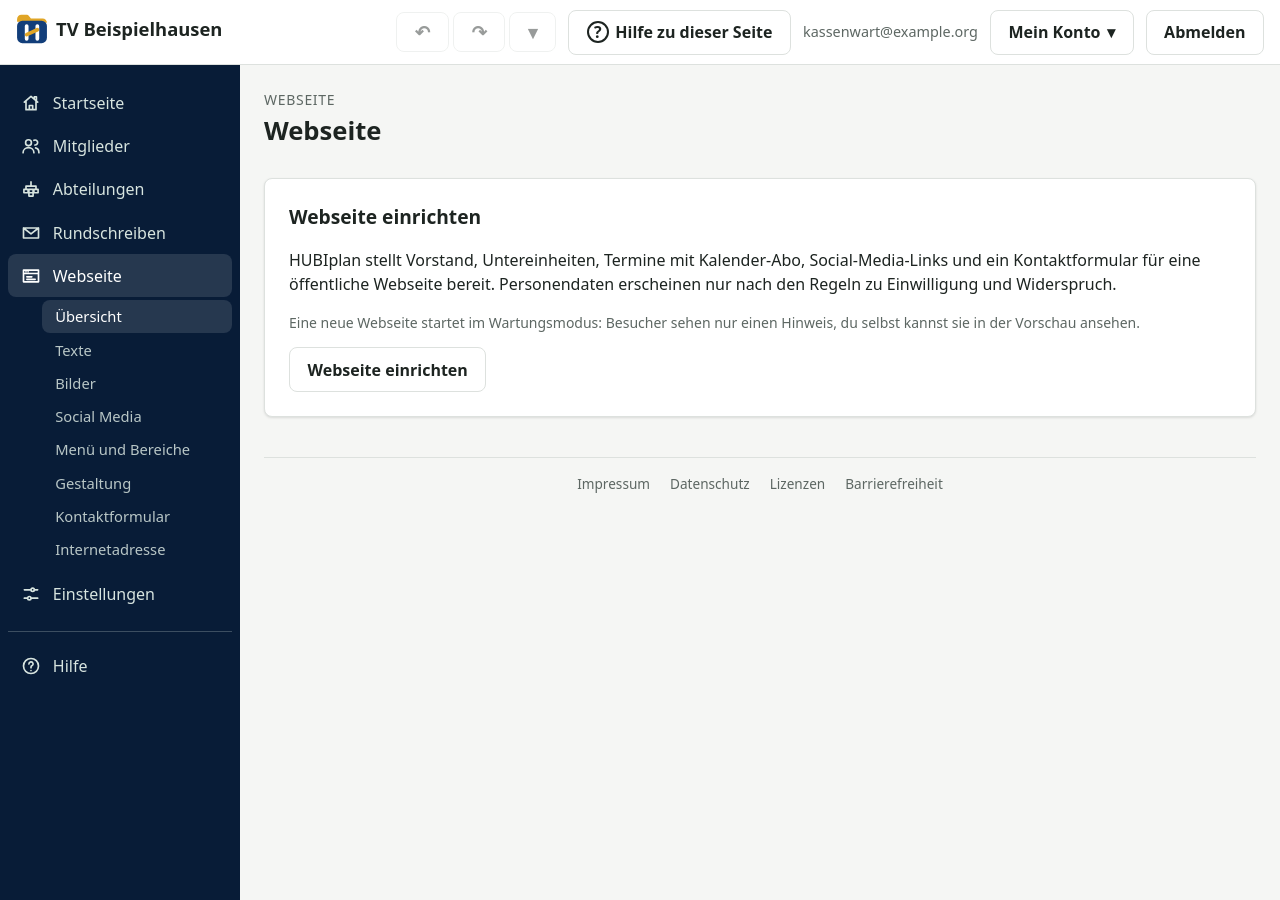
Test case: Webseite › richtet die Webseite ein und zeigt Zustand, Domain und Vorschau
Click the button "Webseite einrichten": (388, 370) x1=289 y1=347 x2=486 y2=392
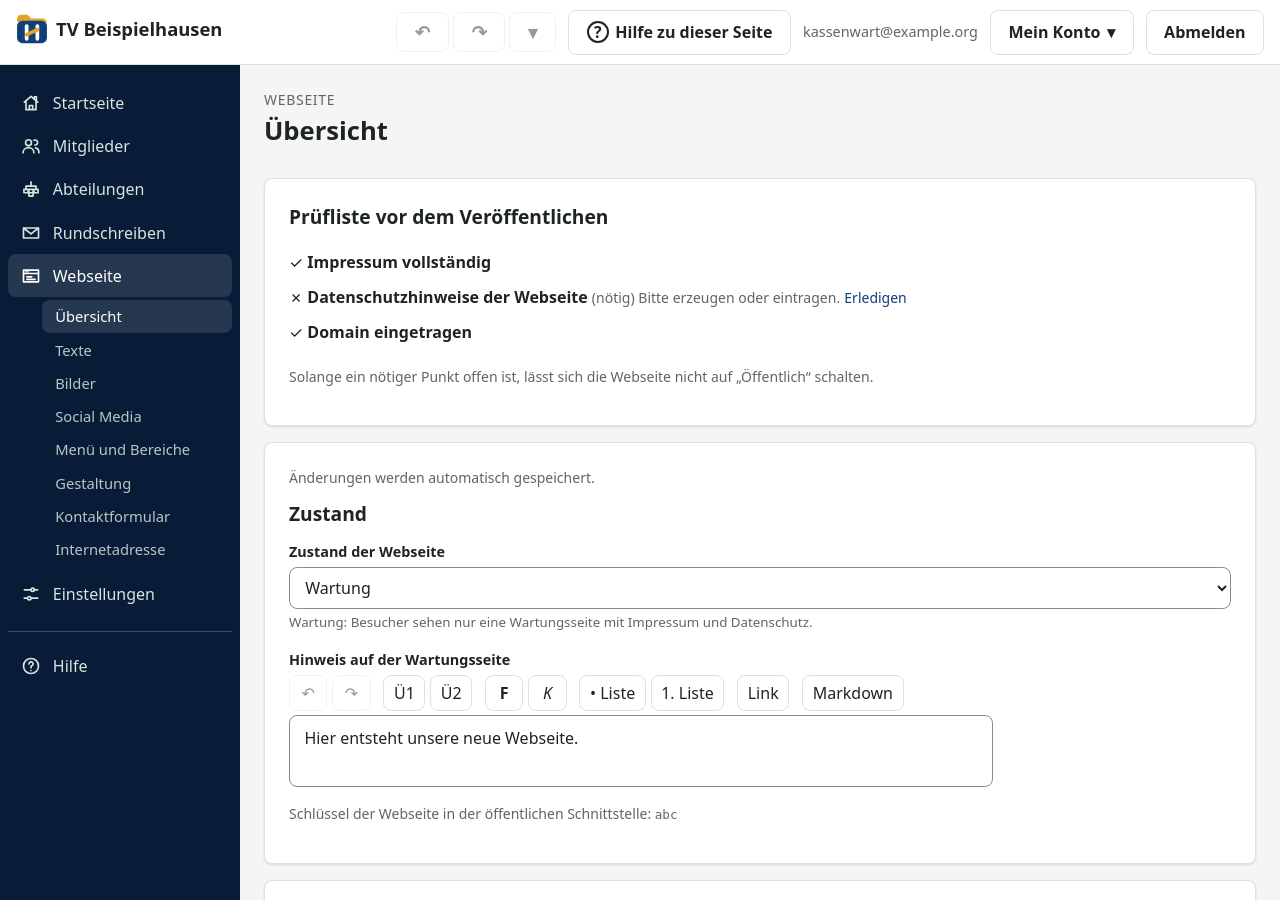
Expected: the dropdown labelled "Zustand der Webseite" shows "Wartung", x1=289 y1=567 x2=1231 y2=609
Note: Domains stehen im eigenen Reiter
Click the link "Internetadresse": (110, 549) x1=55 y1=539 x2=166 y2=559
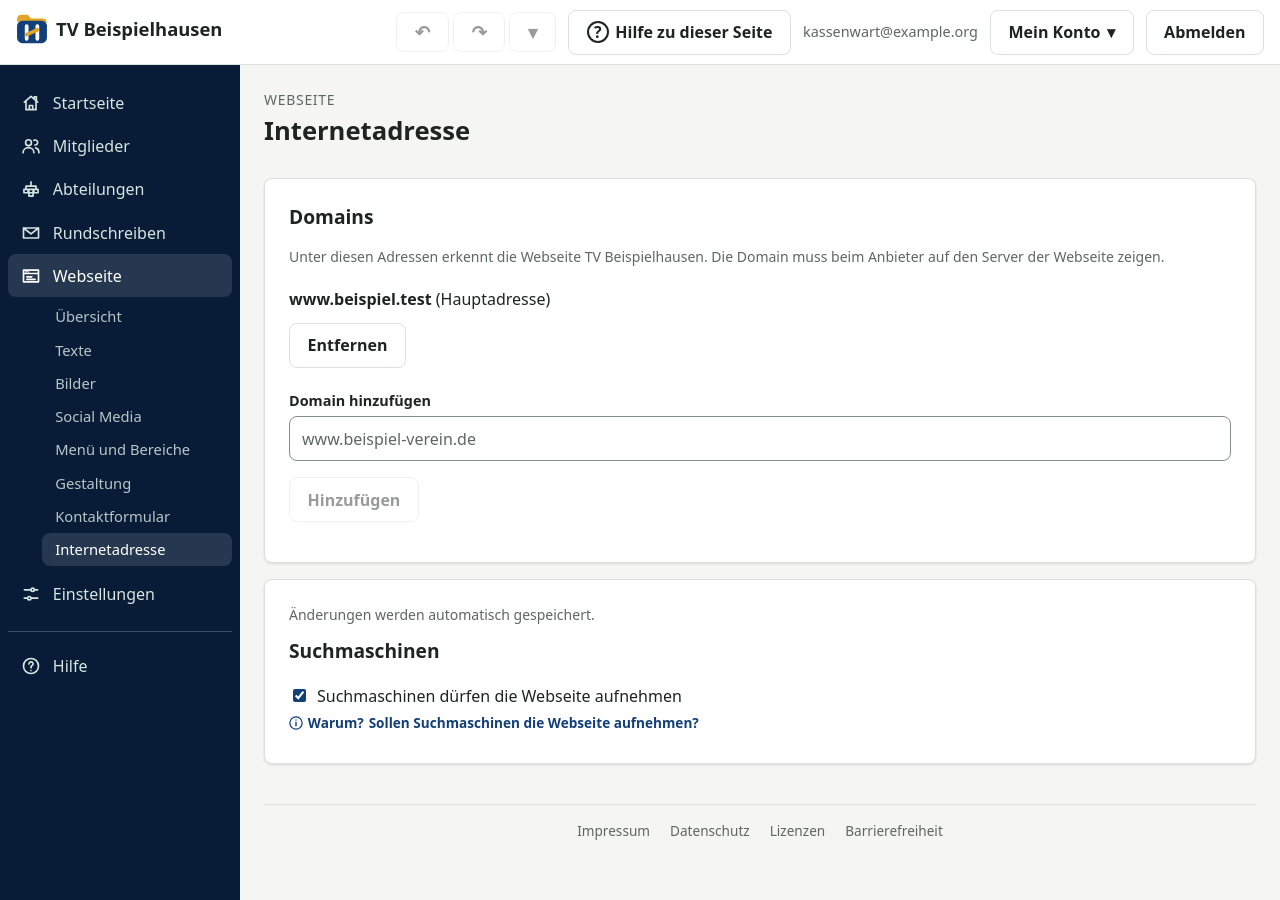
Expected: the text "www.beispiel.test" is shown, x1=289 y1=288 x2=432 y2=310
